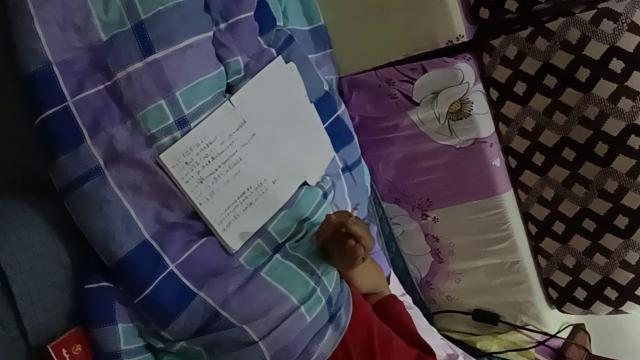Cigarette: (340, 204, 360, 232)
